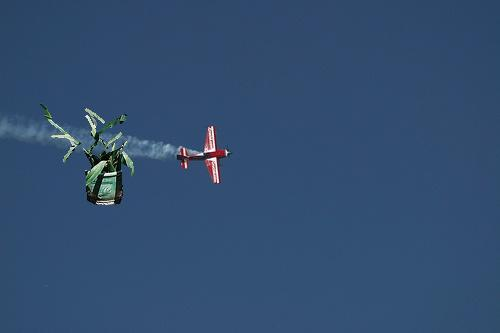tampered: (41, 104, 134, 205)
